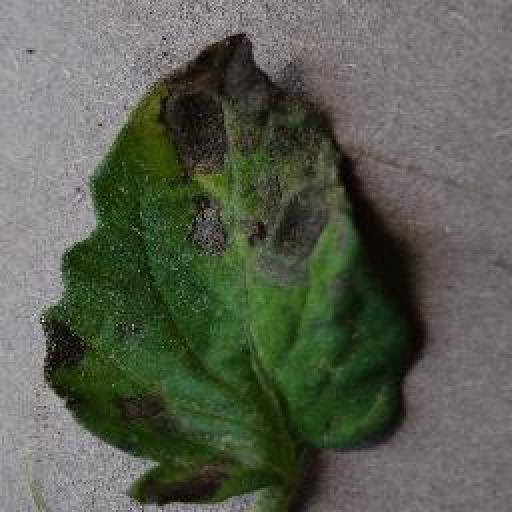Early Blight: (39, 29, 410, 512)
